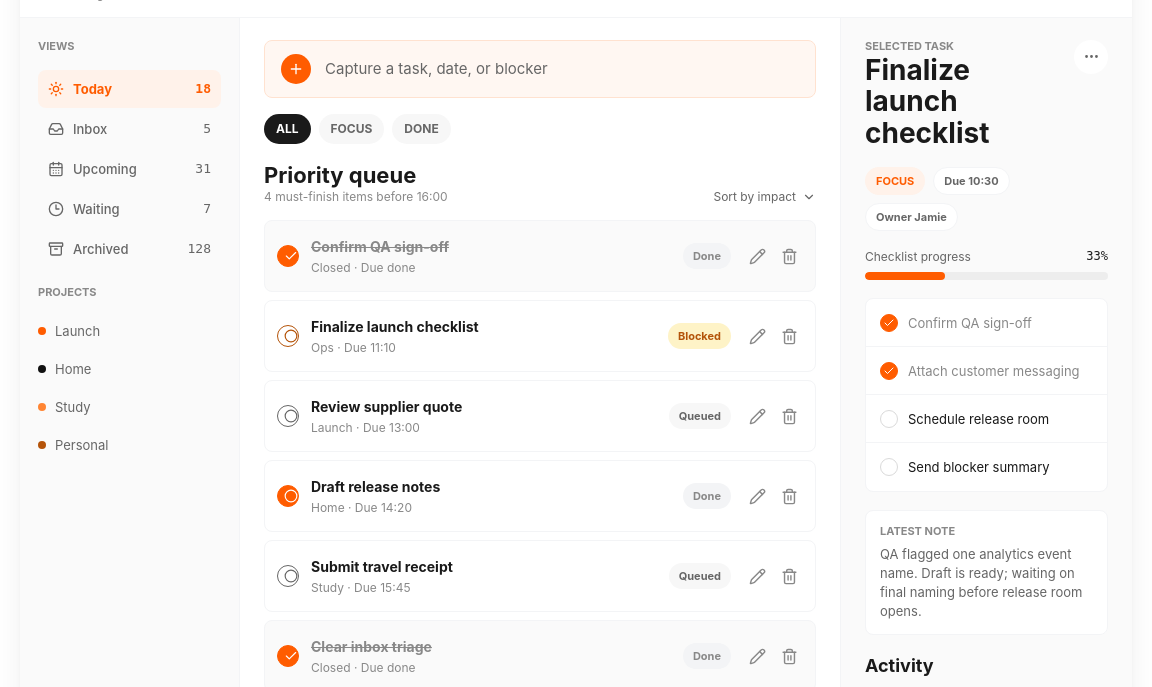
Test: App › edits an existing task
The image size is (1152, 687).
(page scrolled)
Expected: the text "Finalize launch checklist" is shown, [311,318,479,335]
Click the button named "Edit task" in the row of "11:10". click: (757, 336)
box: [743,322,771,350]
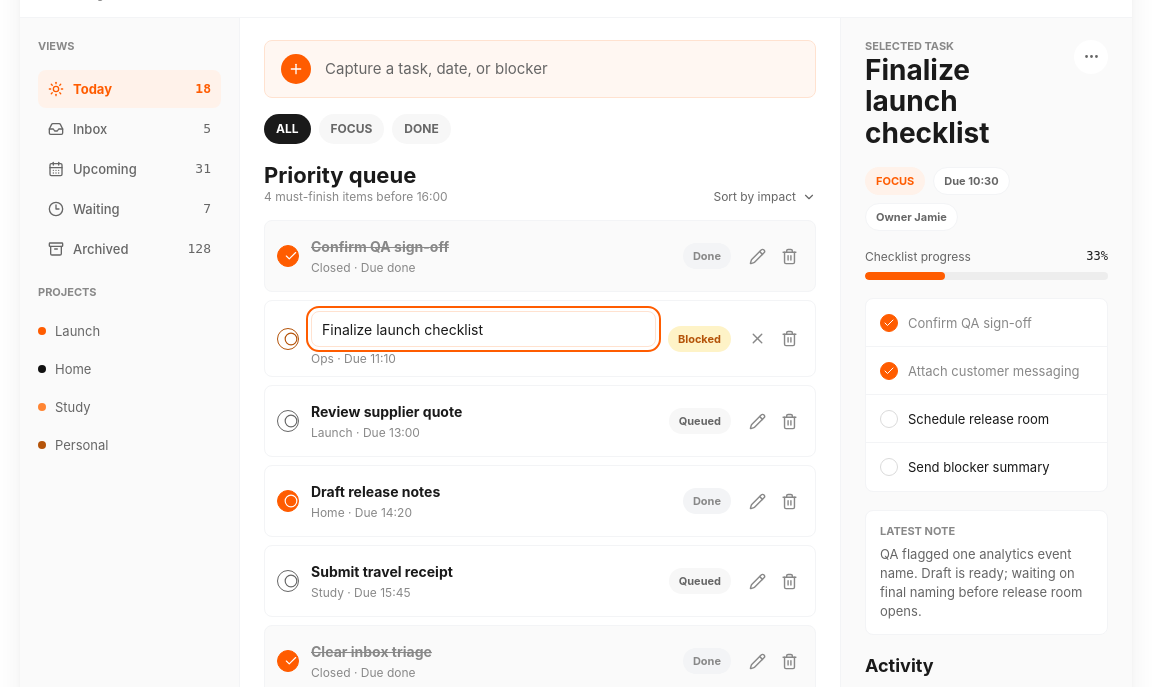
Replace the text in the field named "Edit task title" with "Finalize launch checklist and owner notes". click: (483, 330)
box: [311,312,656,348]
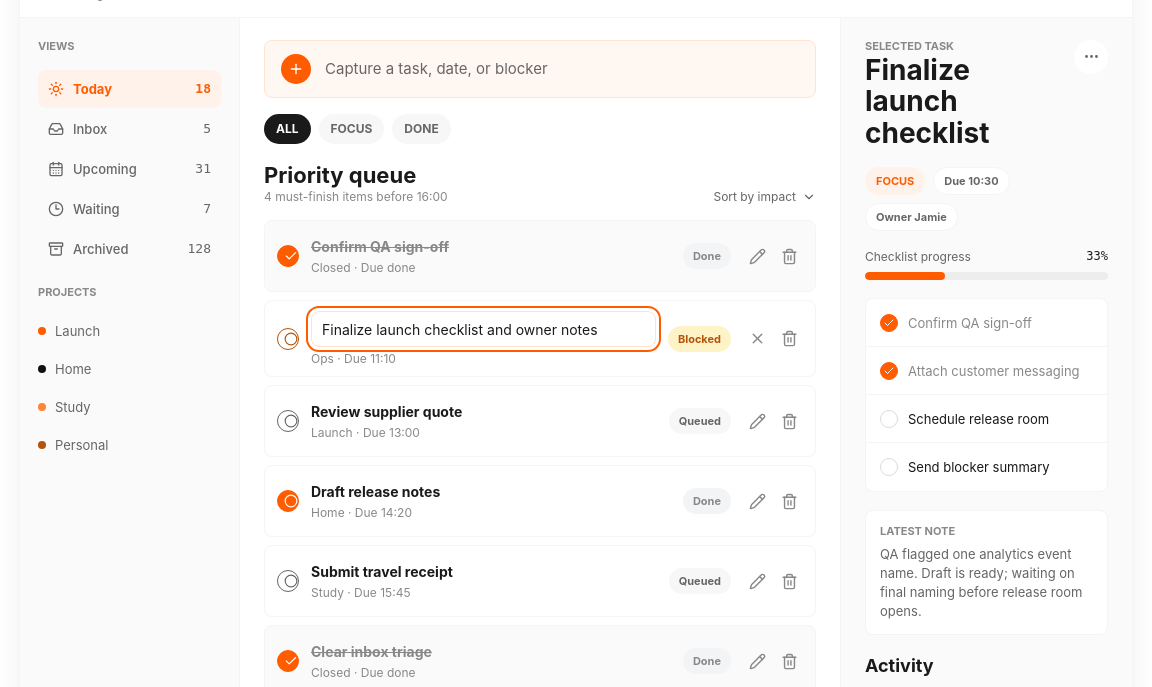
Press Enter
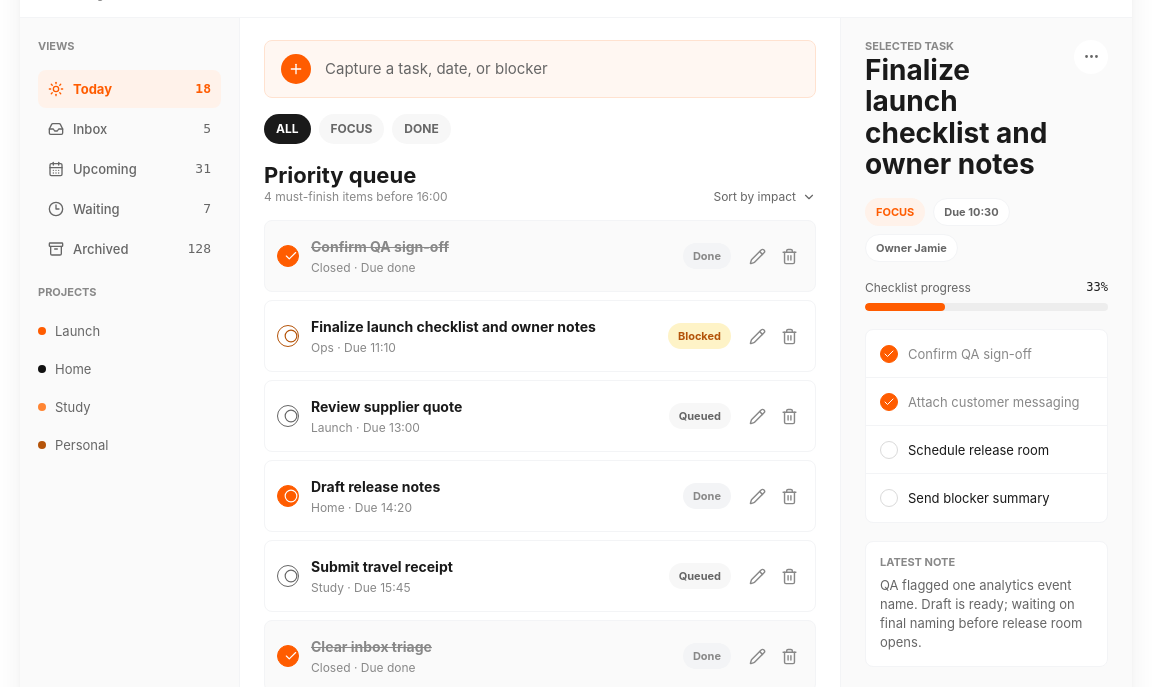
Result: the heading "Finalize launch checklist and owner notes" below "must-finish items before 16:00" is shown at [311,318,596,335]
